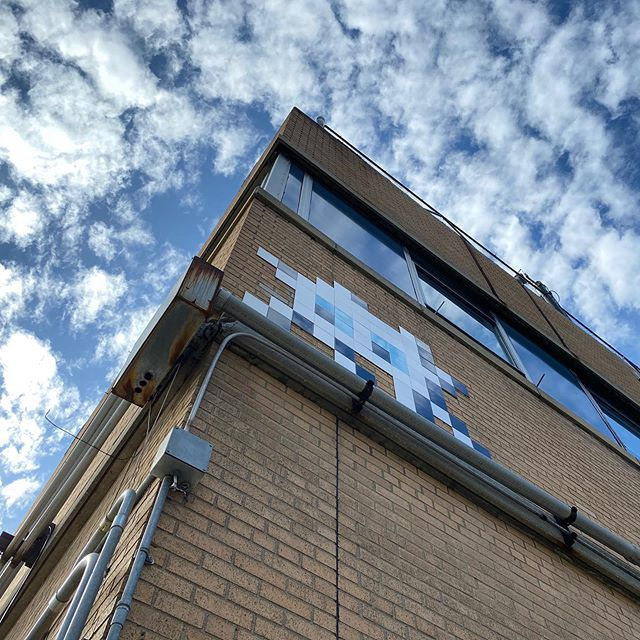building: (25, 201, 640, 640)
sky: (1, 1, 622, 311)
